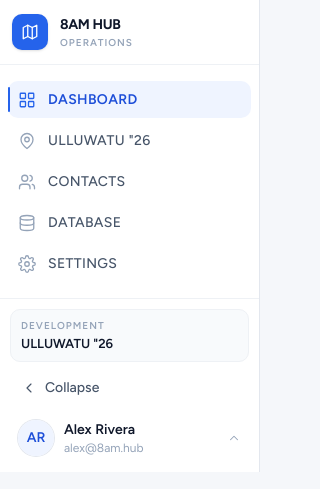
Sidebar — Phase 6 polish › opens the account menu and shows email, Account/Profile, Upgrade Plan and Sign Out
Click the button "AR Alex Rivera alex@8am.hub" at (130,438), box [10, 414, 249, 462]
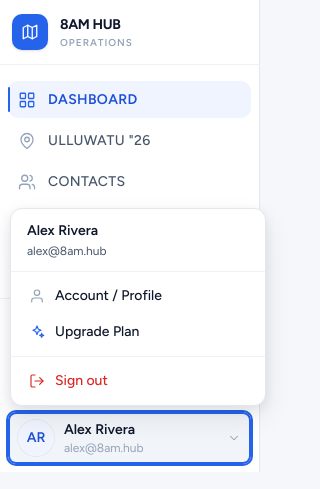
Check: the menu named "Account menu" is shown, box [10, 208, 266, 406]
Check: the 1st text "alex@8am.hub" is shown, box [27, 244, 106, 258]
Check: the menu item "Account / Profile" is shown, box [17, 278, 259, 314]
